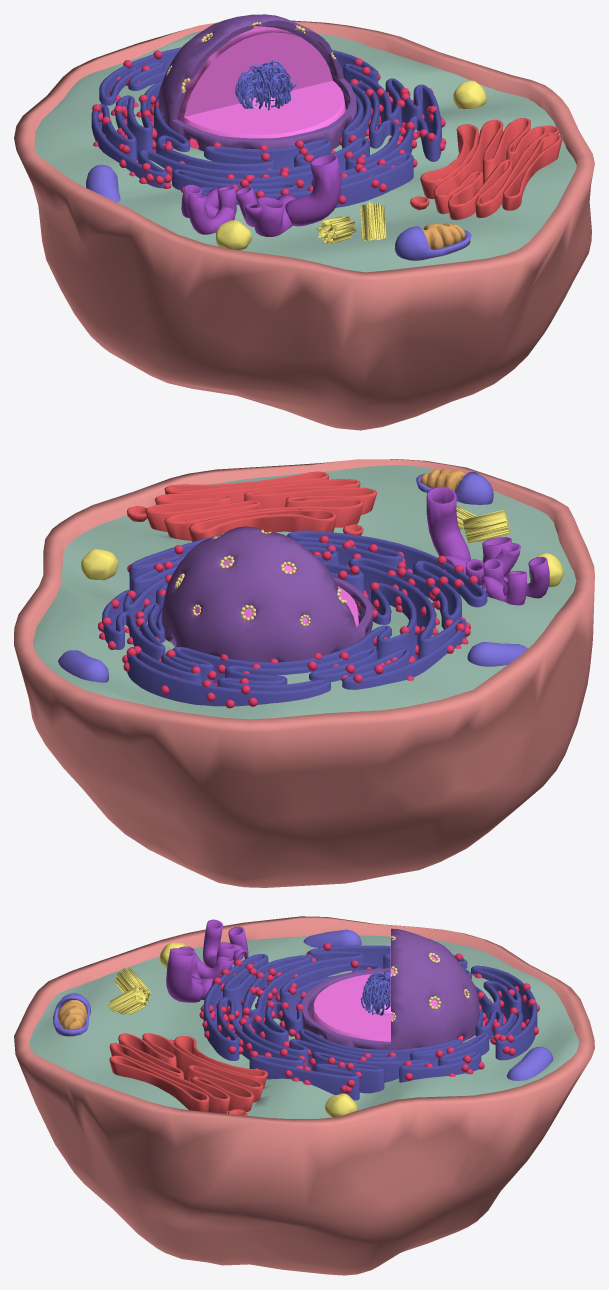
Rendered from animalcellCOLOR2-processed.gltf.
3 views of the same model, one above another, from view 1: azimuth 30°, elevation 25°; view 2: azimuth 150°, elevation 25°; view 3: azimuth 270°, elevation 25° (orthographic). The views are drawn at different scales.
Visible parts, largest first — view 1: Sphere, Sphere.001, BezierCurve, Roundcube, BezierCurve.002, Icosphere, BezierCurve.006, Roundcube.000, Sphere.002, Mesh, BezierCurve.004, BezierCurve.005 (+1 smaller); view 2: Sphere, Sphere.001, BezierCurve, Icosphere, BezierCurve.002, Sphere.002, BezierCurve.006, Roundcube.000, BezierCurve.004, BezierCurve.005, Icosphere.002, Sphere.005; view 3: Sphere, Sphere.001, BezierCurve, Icosphere, BezierCurve.002, Roundcube, Sphere.002, Roundcube.000, BezierCurve.006, BezierCurve.004, Mesh, BezierCurve.005 (+1 smaller).
Boxes of the visible parts, <box> form: Sphere: <box>14,20,594,430</box>; Sphere.001: <box>34,30,576,272</box>; BezierCurve: <box>91,47,441,207</box>; Roundcube: <box>177,26,345,139</box>; BezierCurve.002: <box>410,118,562,245</box>; Icosphere: <box>158,14,356,151</box>; BezierCurve.006: <box>254,154,341,236</box>; Roundcube.000: <box>215,80,486,250</box>; Sphere.002: <box>86,164,471,260</box>; Mesh: <box>235,60,296,110</box>; BezierCurve.004: <box>188,186,261,234</box>; BezierCurve.005: <box>181,184,236,218</box>; Sphere: <box>14,459,594,887</box>; Sphere.001: <box>33,465,576,719</box>; BezierCurve: <box>102,530,487,706</box>; Icosphere: <box>161,526,372,662</box>; BezierCurve.002: <box>127,471,377,541</box>; Sphere.002: <box>58,472,527,682</box>; BezierCurve.006: <box>426,486,511,577</box>; Roundcube.000: <box>81,505,563,586</box>; BezierCurve.004: <box>465,543,549,598</box>; BezierCurve.005: <box>481,558,526,605</box>; Icosphere.002: <box>175,529,346,626</box>; Sphere.005: <box>420,469,465,491</box>; Sphere: <box>14,916,594,1275</box>; Sphere.001: <box>29,935,578,1118</box>; BezierCurve: <box>203,945,537,1100</box>; Icosphere: <box>302,928,479,1050</box>; BezierCurve.002: <box>109,1033,267,1115</box>; Roundcube: <box>312,940,466,1041</box>; Sphere.002: <box>53,929,553,1080</box>; Roundcube.000: <box>107,942,357,1117</box>; BezierCurve.006: <box>166,948,213,1002</box>; BezierCurve.004: <box>179,919,234,978</box>; Mesh: <box>360,971,390,1015</box>; BezierCurve.005: <box>216,926,248,964</box>.
Bounding box in the file's own units: 5.96 × 3.98 × 7.04.
